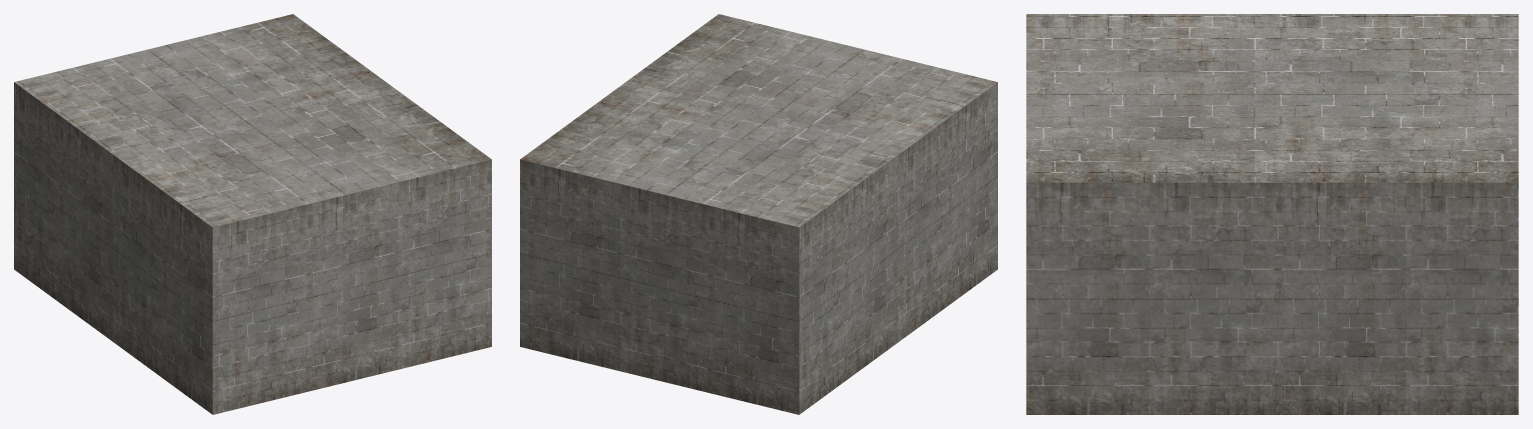
Rendered from bg_lut_lucastle_church03a_sm_ksh.FBX.
3 renders of one model, left to right at view 1: azimuth 30°, elevation 25°; view 2: azimuth 150°, elevation 25°; view 3: azimuth 270°, elevation 25°, orthographic. The views are drawn at different scales.
Parts seen in each view (by area): view 1: bg_lut_lucastle_church03a_sm_ksh; view 2: bg_lut_lucastle_church03a_sm_ksh; view 3: bg_lut_lucastle_church03a_sm_ksh.
Boxes of the visible parts, x1=… form: bg_lut_lucastle_church03a_sm_ksh: x1=14, y1=14, x2=491, y2=414; bg_lut_lucastle_church03a_sm_ksh: x1=520, y1=14, x2=997, y2=414; bg_lut_lucastle_church03a_sm_ksh: x1=1026, y1=14, x2=1518, y2=414.
Size of the model in its own units: 798 by 512 by 984.
